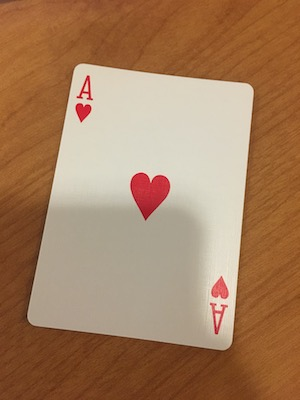AceOfHearts: (27, 58, 253, 353)
